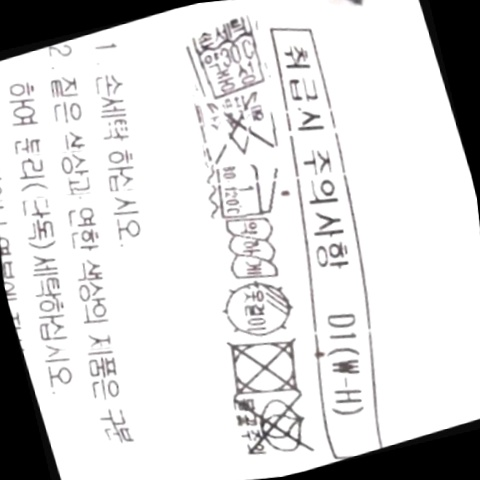DN_tumble_dry: (209, 319, 316, 413)
hand_wash: (176, 9, 279, 107)
iron_low: (200, 148, 289, 232)
line_dry_in_shade: (208, 267, 308, 351)
wring: (212, 207, 290, 293)
